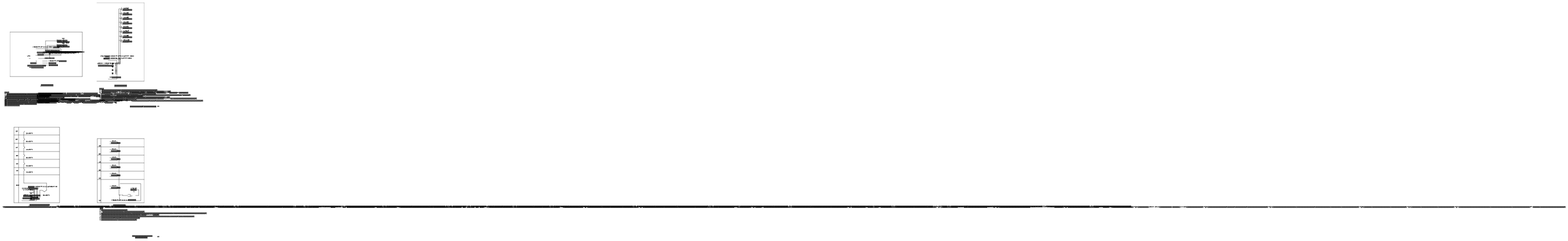corridor: (1062, 51, 1568, 61), (1062, 32, 1568, 42), (1062, 70, 1568, 80), (1062, 42, 1568, 51), (1062, 61, 1568, 70), (100, 84, 576, 93), (100, 37, 576, 46), (48, 4, 100, 37)
door: (383, 183, 388, 185)
room: (100, 4, 576, 37), (1062, 4, 1568, 32), (100, 65, 576, 75), (100, 55, 576, 65), (100, 75, 576, 84), (100, 46, 576, 55), (134, 7, 311, 21), (302, 179, 596, 187), (48, 55, 100, 65), (48, 65, 100, 75), (48, 46, 100, 55), (48, 75, 100, 84), (48, 84, 100, 93), (48, 37, 100, 46), (1161, 21, 1255, 24), (1161, 45, 1255, 48), (1161, 55, 1255, 58), (1161, 64, 1255, 67), (1161, 74, 1255, 77), (1161, 36, 1255, 38), (233, 8, 275, 10), (1377, 11, 1404, 14), (233, 10, 275, 11)
wall: (383, 180, 587, 183), (464, 181, 581, 182), (458, 180, 470, 181), (508, 184, 519, 184), (508, 185, 519, 185), (494, 184, 505, 184), (494, 185, 505, 185), (481, 184, 492, 184), (481, 185, 492, 185), (467, 184, 478, 184), (467, 185, 478, 185), (451, 184, 462, 184), (451, 185, 462, 185), (437, 184, 448, 184), (437, 185, 448, 185), (424, 184, 434, 184), (424, 185, 434, 185), (410, 185, 421, 185), (410, 184, 421, 184), (523, 184, 534, 184), (523, 185, 534, 185), (538, 184, 548, 184), (538, 185, 548, 185), (552, 184, 563, 184), (552, 185, 563, 185), (568, 184, 579, 184), (568, 185, 579, 185)
window: (517, 184, 522, 185), (506, 184, 511, 185), (489, 184, 494, 185), (475, 184, 480, 185), (435, 184, 440, 185), (432, 184, 437, 185), (418, 184, 423, 185), (546, 184, 551, 185), (535, 184, 540, 185), (550, 184, 555, 185), (576, 184, 581, 185), (565, 184, 570, 185), (465, 184, 469, 185), (460, 184, 464, 185), (446, 184, 450, 185), (532, 184, 536, 185), (521, 184, 525, 185), (561, 184, 565, 185)
